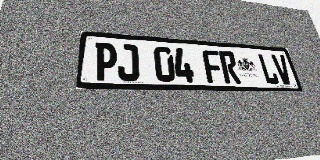0: (153, 46, 176, 82)
4: (172, 47, 195, 83)
F: (202, 50, 225, 83)
J: (117, 44, 139, 81)
L: (257, 53, 280, 84)
P: (94, 42, 117, 81)
R: (218, 51, 241, 83)
V: (271, 54, 294, 84)
